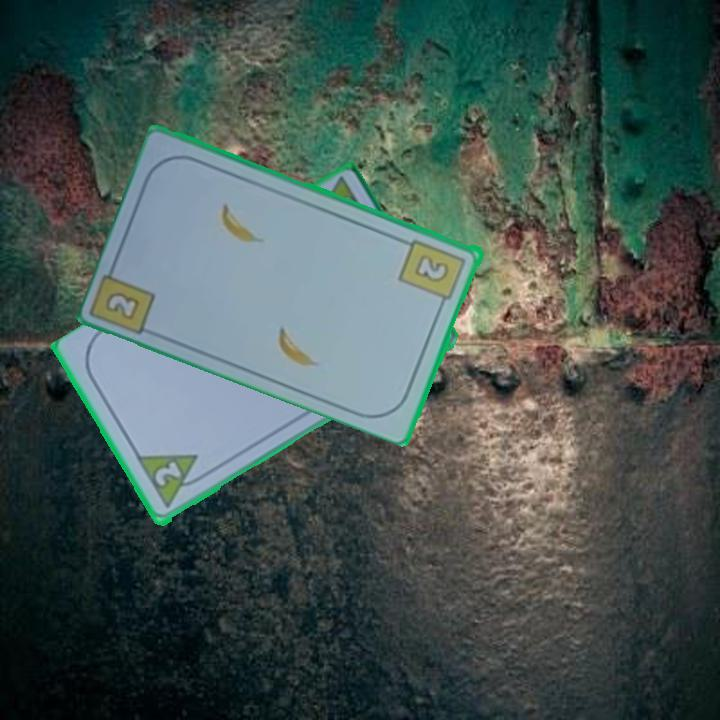2b: (396, 235, 469, 311), (102, 288, 144, 323)
2p: (133, 450, 211, 513)
